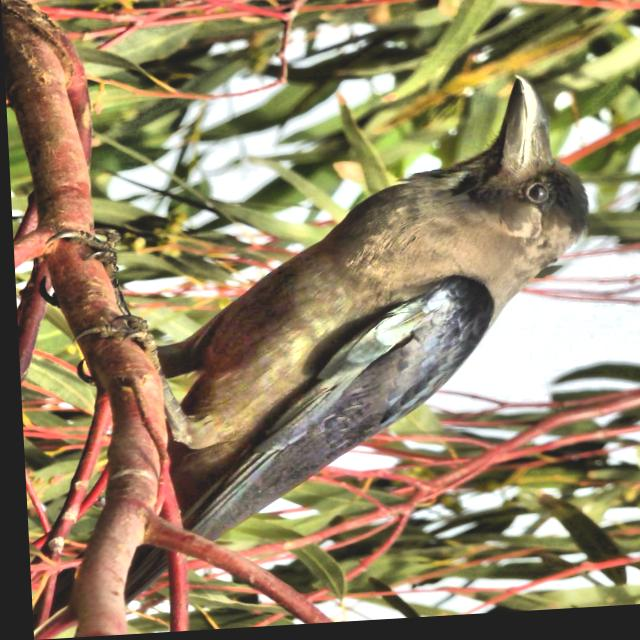crow: (1, 0, 615, 560)
